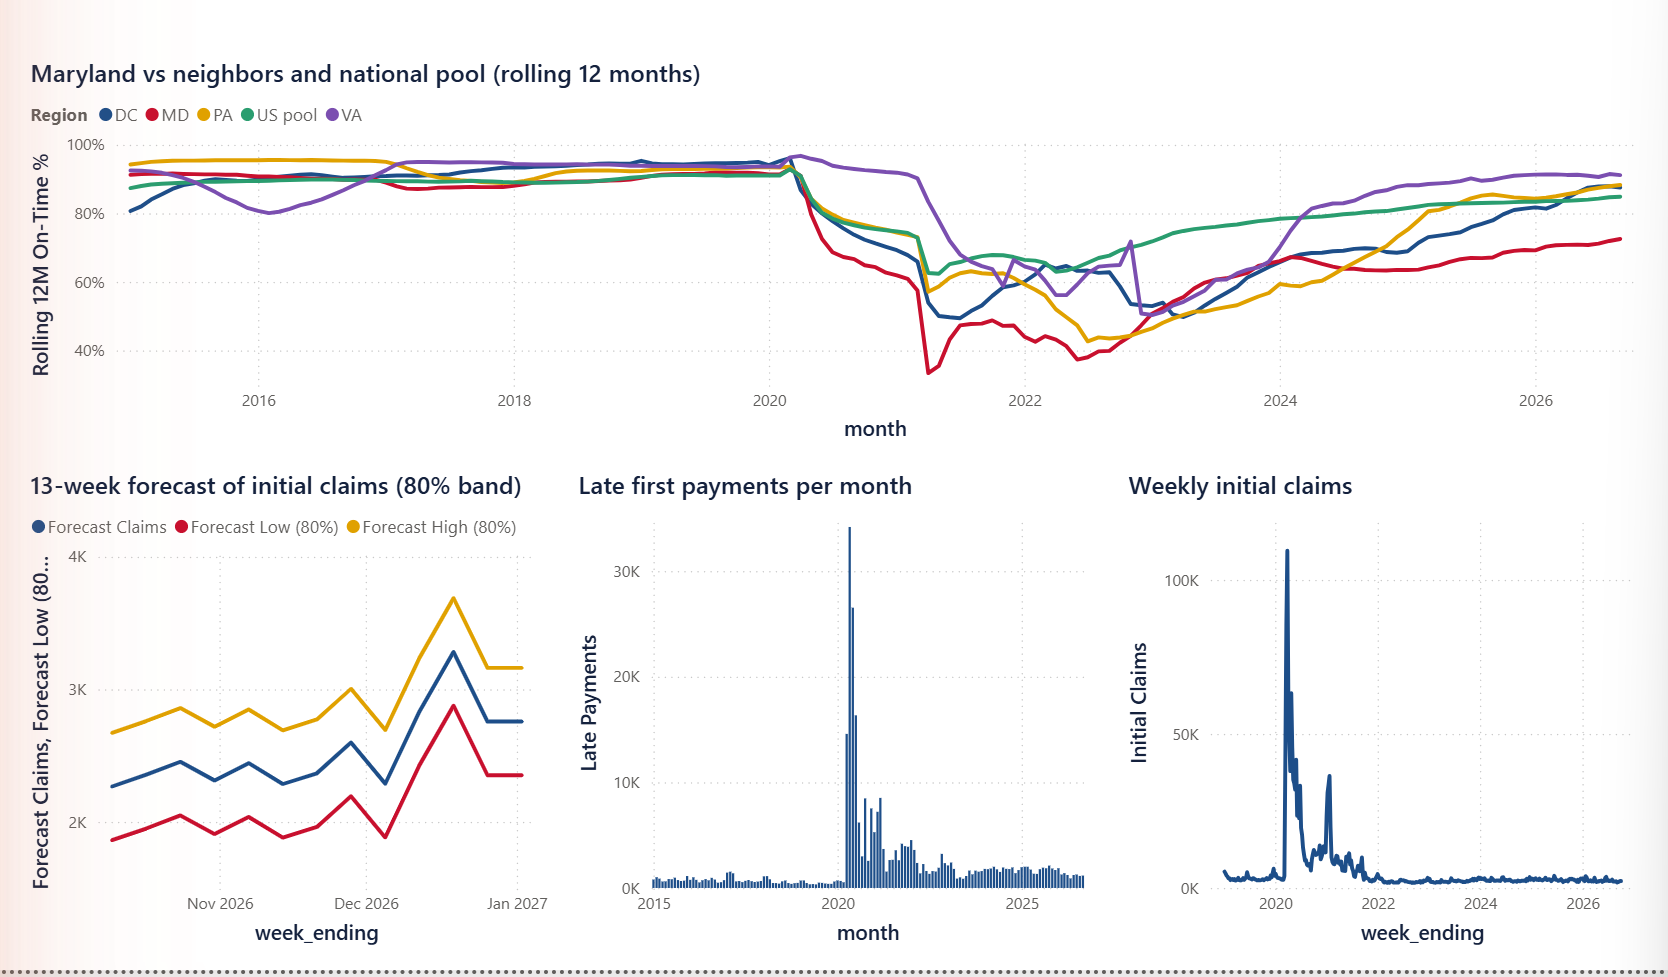

The dashboard page shown, as its layout file describes it:
{"tool":"powerbi","page":{"name":"Analytics deep dive","canvas":[1280,720],"ordinal":1},"visuals":[{"type":"lineChart","title":"Maryland vs neighbors and national pool (rolling 12 months)","fields":{"Category":["Peers.month"],"Y":["Peers.Rolling 12M On-Time %"],"Series":["Peers.Region"]},"box":[20,20,1240,300],"z":0},{"type":"lineChart","title":"13-week forecast of initial claims (80% band)","fields":{"Category":["ClaimsForecast.week_ending"],"Y":["ClaimsForecast.Forecast Claims","ClaimsForecast.Forecast Low (80%)","ClaimsForecast.Forecast High (80%)"]},"box":[20,335,410,370],"z":0},{"type":"clusteredColumnChart","title":"Late first payments per month","fields":{"Category":["Timeliness.month"],"Y":["Timeliness.Late Payments"]},"box":[440,335,410,370],"z":0},{"type":"lineChart","title":"Weekly initial claims","fields":{"Category":["WeeklyClaims.week_ending"],"Y":["WeeklyClaims.Initial Claims"]},"box":[860,335,400,370],"z":0}]}

Visuals, with their boxes on the page's 1280x720 design canvas (x1, y1, x2, y2). These are canvas units, not pixel positions in the 1668x977 screenshot, which may show the page scaled, cropped or inside an application window:
"Maryland vs neighbors and national pool (rolling 12 months)" lineChart: bbox=(20, 20, 1260, 320)
"13-week forecast of initial claims (80% band)" lineChart: bbox=(20, 335, 430, 705)
"Late first payments per month" clusteredColumnChart: bbox=(440, 335, 850, 705)
"Weekly initial claims" lineChart: bbox=(860, 335, 1260, 705)
